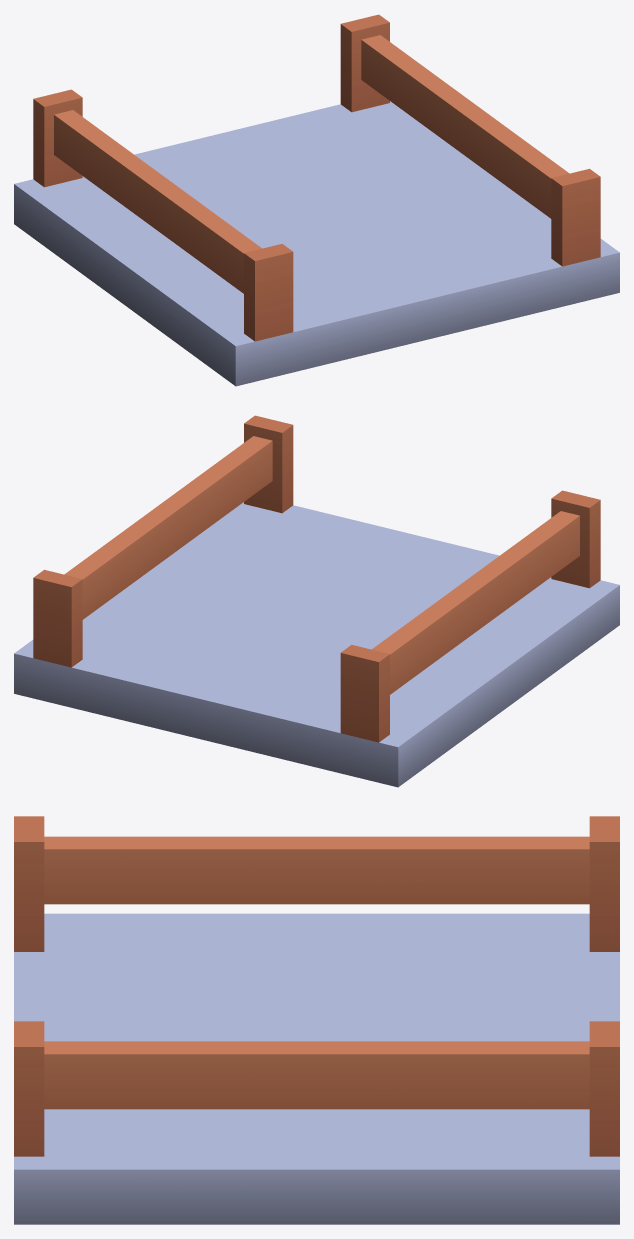
The model's file is path-straight.glb.
3 renders of one model, top to bottom at view 1: azimuth 30°, elevation 25°; view 2: azimuth 150°, elevation 25°; view 3: azimuth 270°, elevation 25°, orthographic. The views are drawn at different scales.
Parts seen in each view (by area): view 1: path-straight; view 2: path-straight; view 3: path-straight.
Boxes of the visible parts, <box> form: path-straight: <box>14,14,619,386</box>; path-straight: <box>14,415,619,787</box>; path-straight: <box>14,816,619,1224</box>.
Bounding box in the file's own units: 1 × 0.3 × 1.
Materials: 1 (1 with a texture image).
